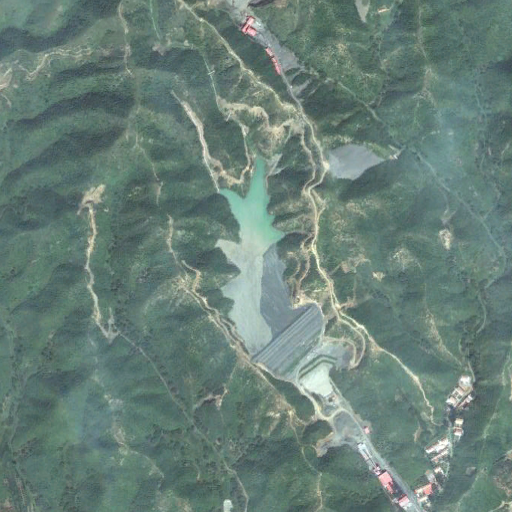tp: (215, 157, 337, 397)
